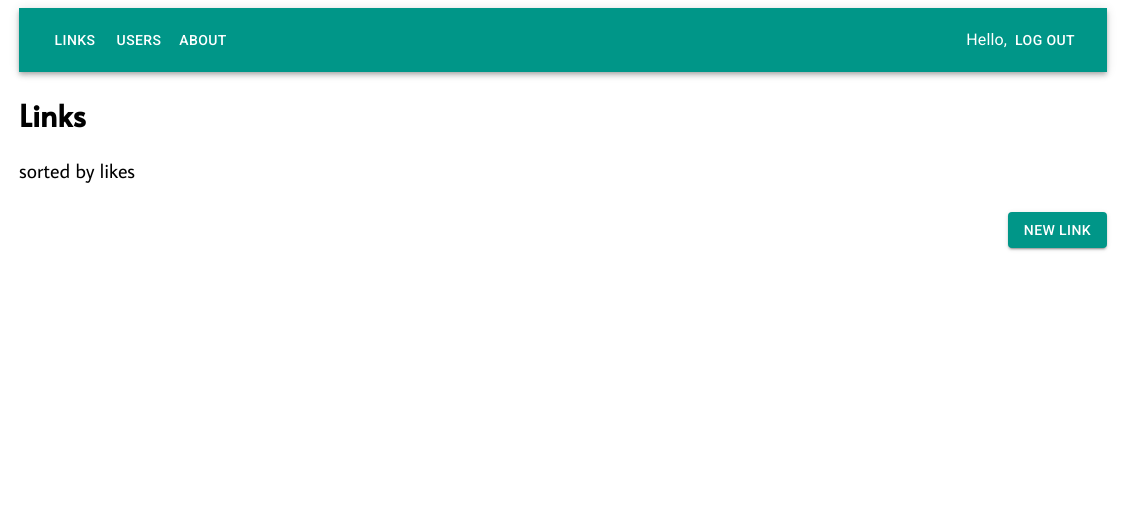
Test: blog app › when logged in › user can create a new blog
The image size is (1127, 514).
Click the button with id "addBlog".
click(1058, 231)  # box left=1008, top=212, right=1107, bottom=249
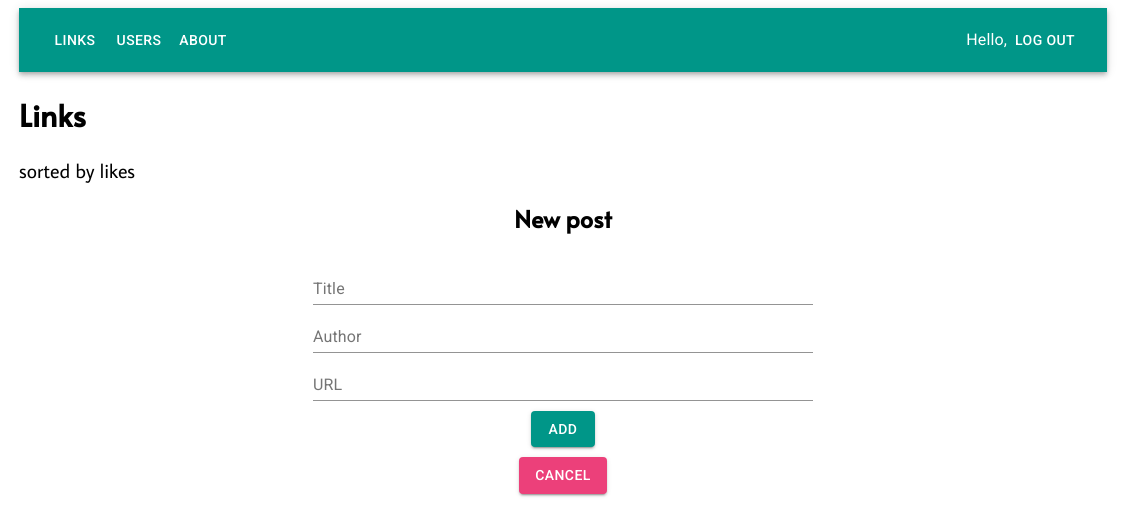
Type "test blog 2" into the field with id "newBlogTitle".
click(563, 289); type("test blog 2")  # box left=313, top=273, right=813, bottom=305
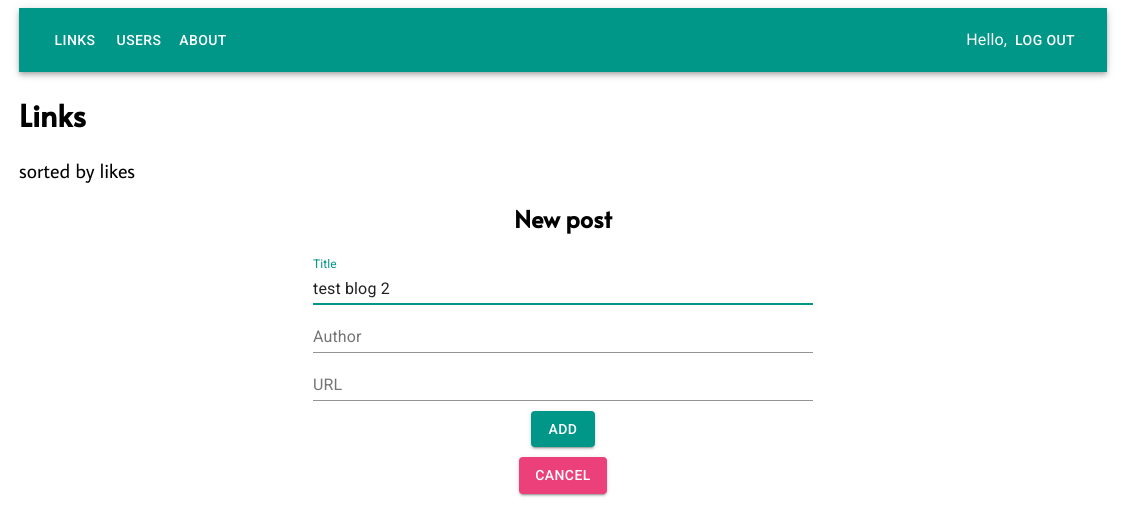
Type "test author 2" into the field with id "newBlogAuthor".
click(563, 337); type("test author 2")  # box left=313, top=321, right=813, bottom=353
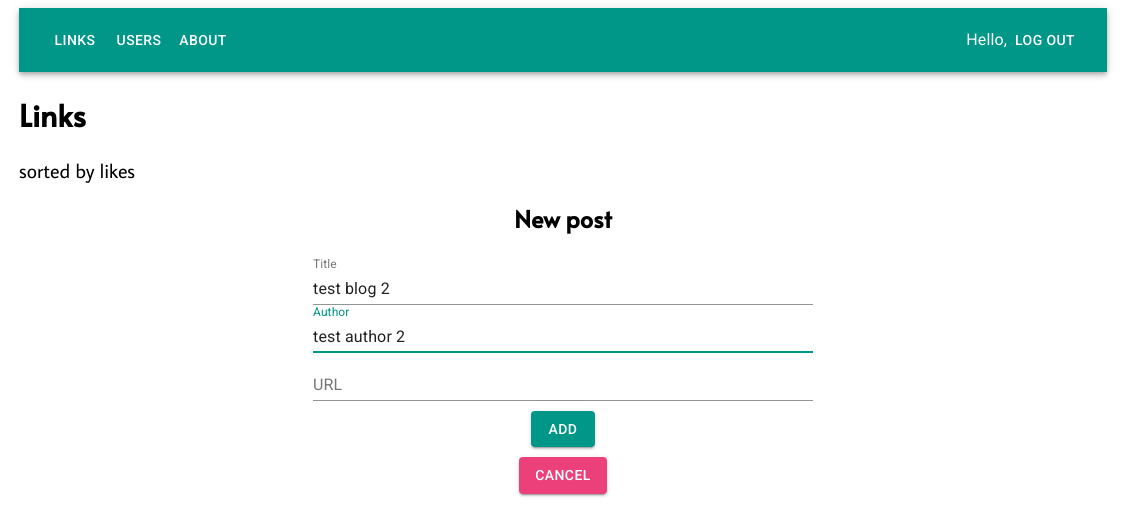
Type "duckduckgo.com" into the field with id "newBlogUrl".
click(563, 385); type("duckduckgo.com")  # box left=313, top=369, right=813, bottom=401
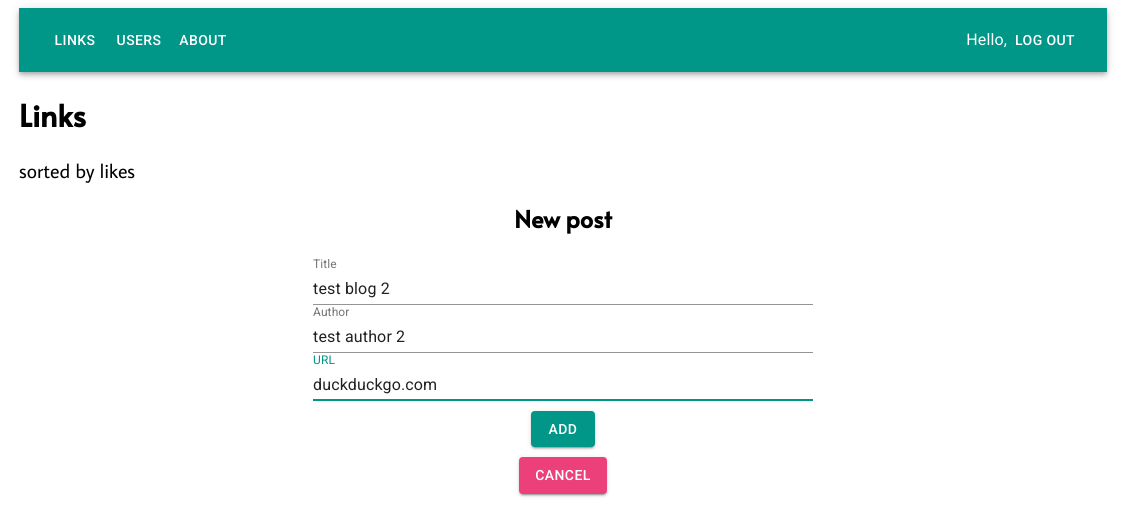
Click the button with id "submitBlog".
click(563, 430)  # box left=531, top=411, right=595, bottom=448
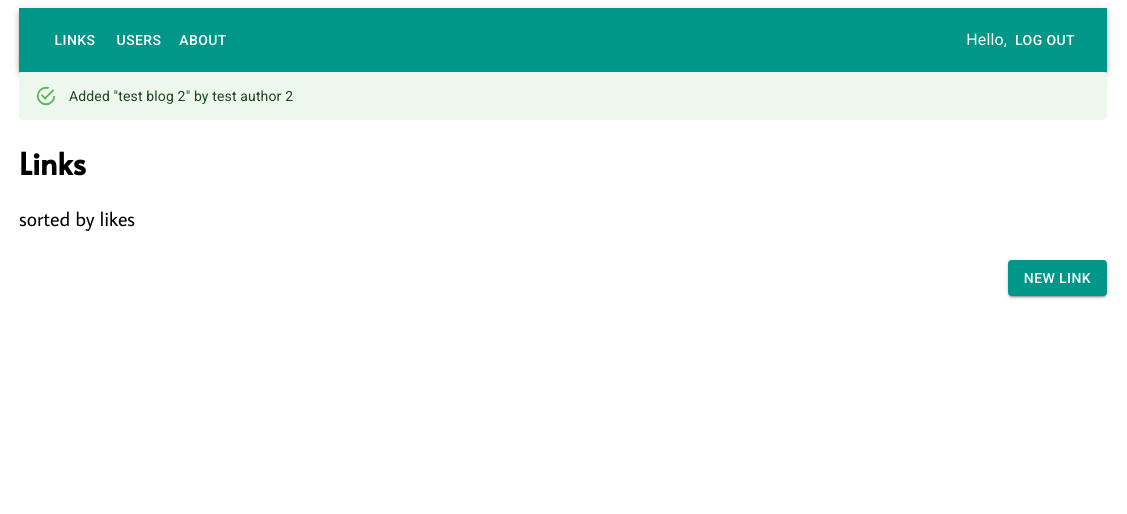
Expected: the text "test author 2" is shown, left=69, top=88, right=293, bottom=104
